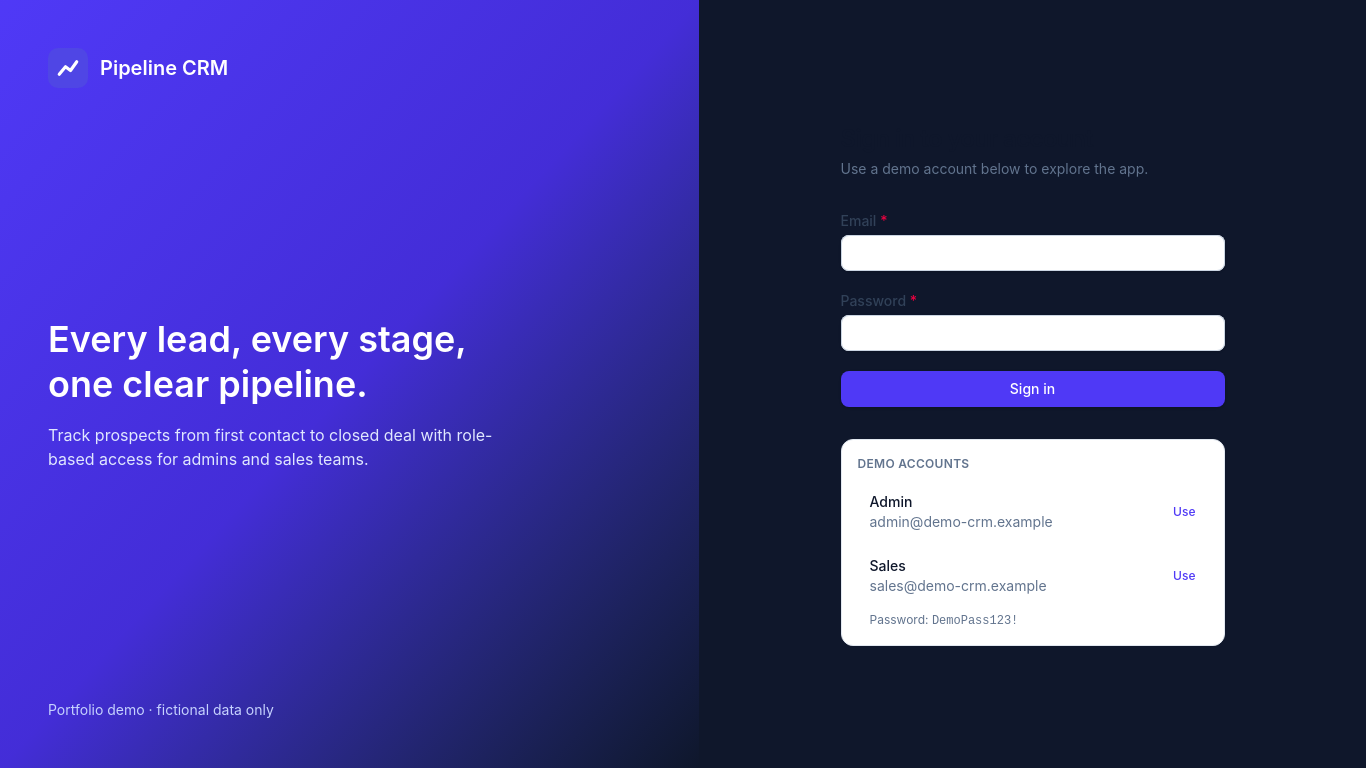
Test: login page › shows the server error for invalid credentials
Type "admin@demo-crm.example" into the field labelled "Email *" at coordinates (1032, 252), box [840,234,1224,270]
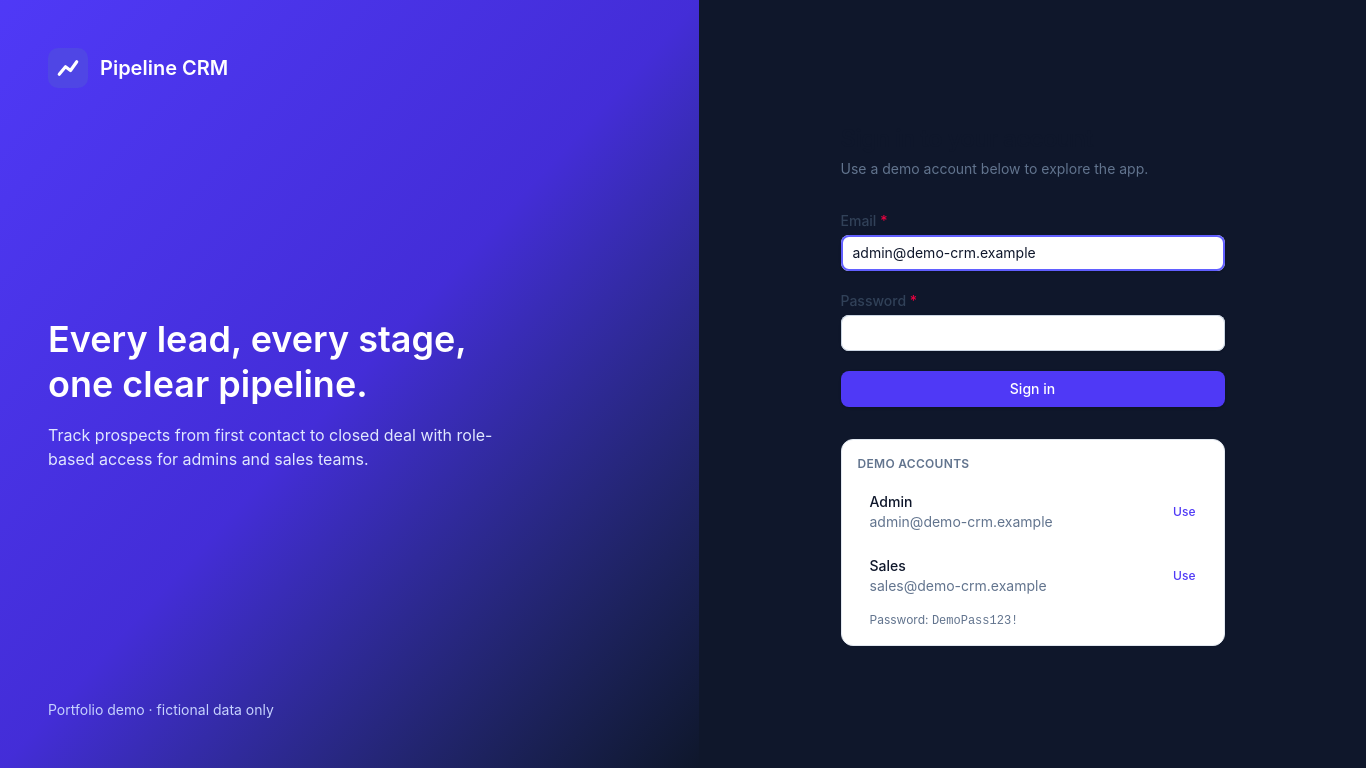
Type "nope" into the password field labelled "Password *" at coordinates (1032, 332), box [840,314,1224,350]
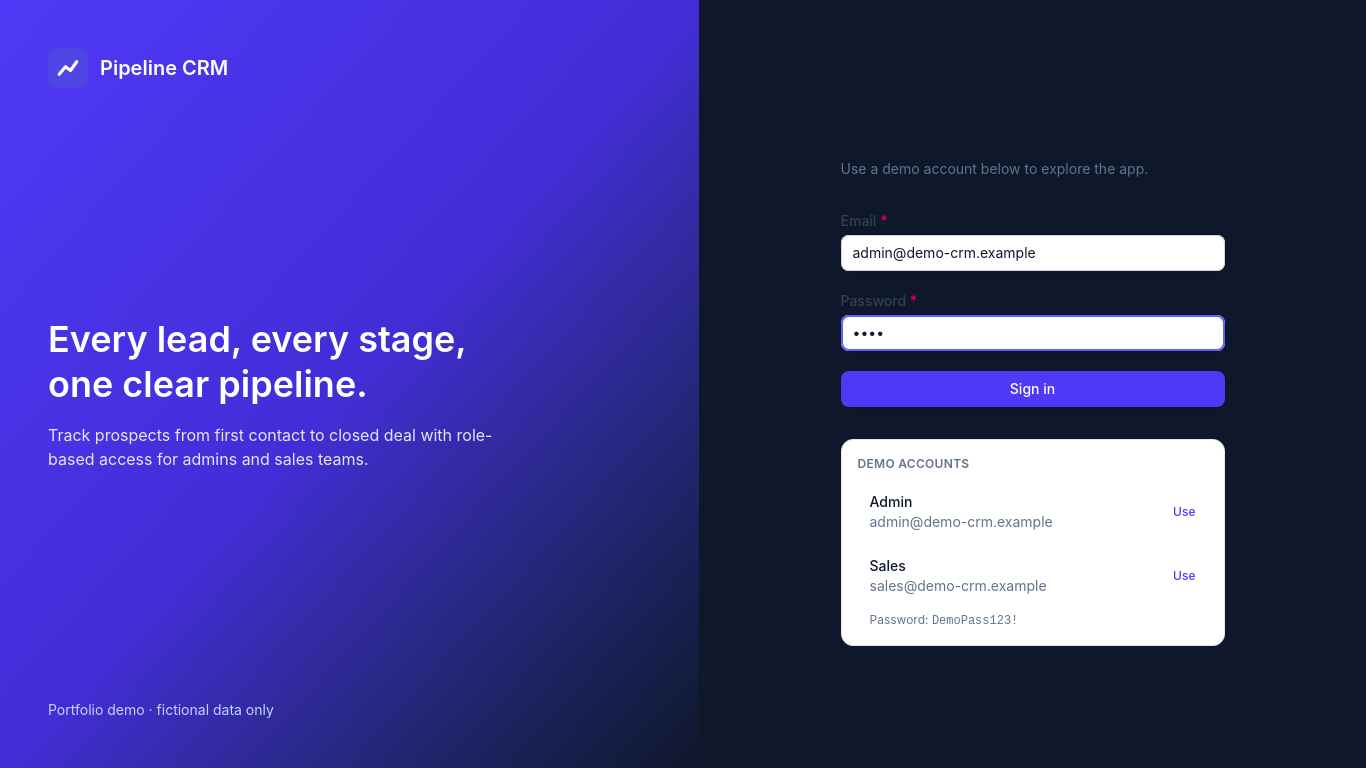
Click the button "Sign in" at coordinates (1032, 388), box [840,370,1224,406]
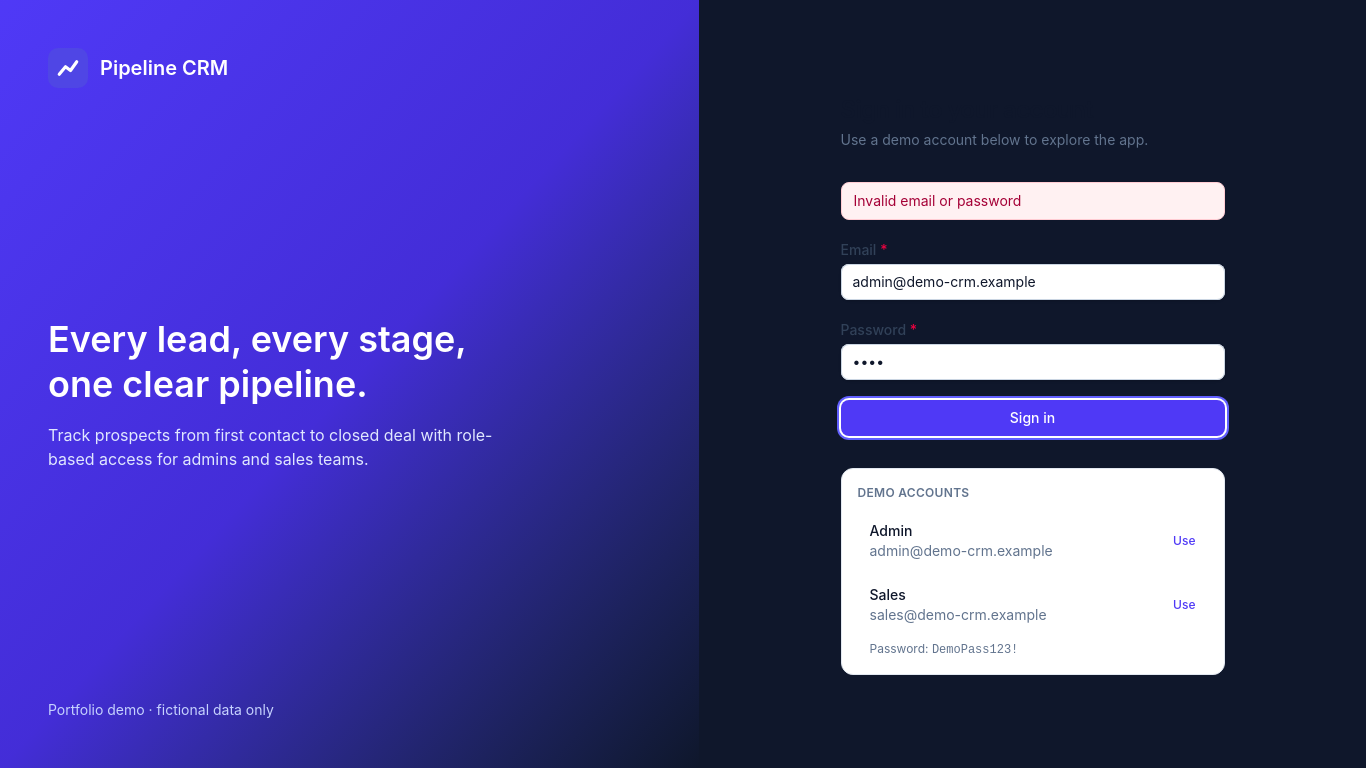
Now the message reads "Invalid email or password", box [854,192,1022,208]
